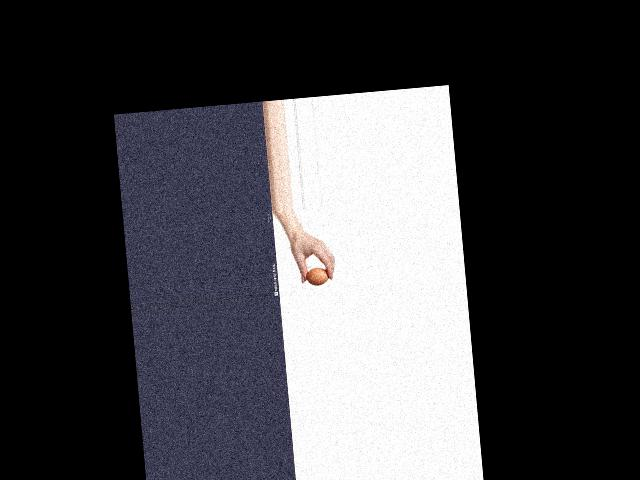egg: (305, 265, 328, 286)
